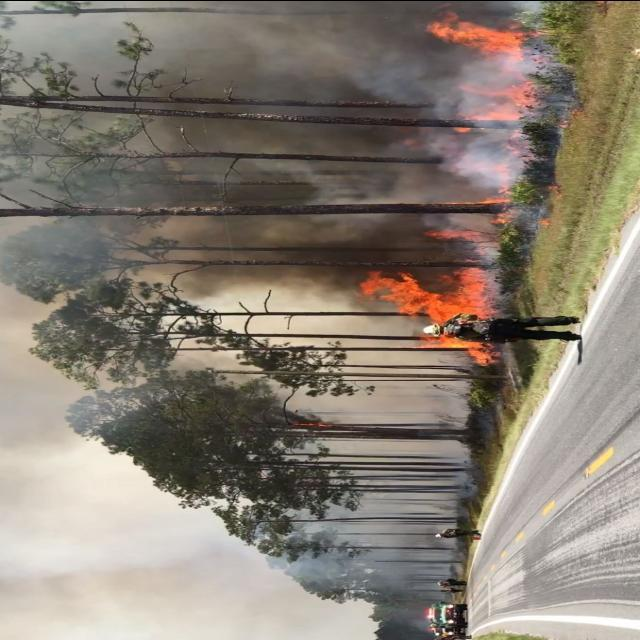Fire: (403, 14, 556, 132), (362, 256, 494, 322), (412, 158, 512, 224), (424, 336, 493, 367), (423, 228, 483, 244)
